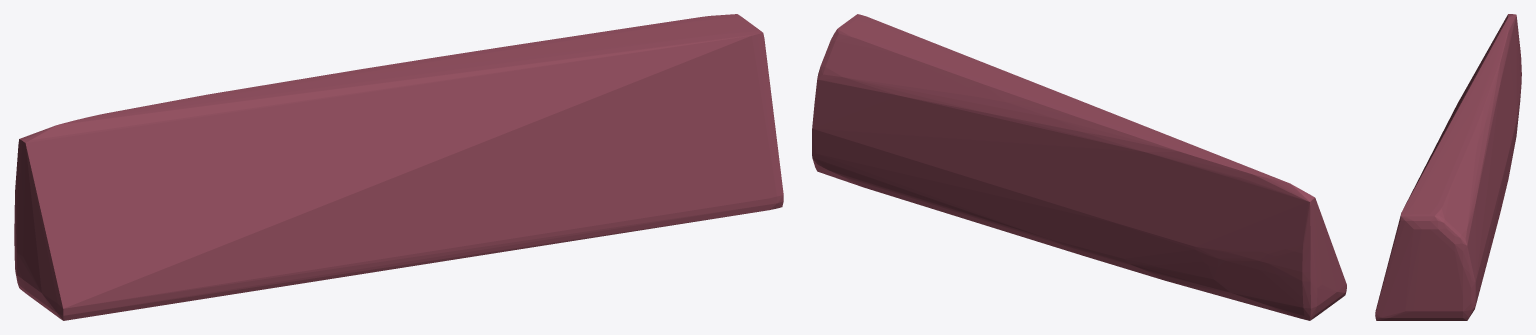
File: right-shin-0_part_13.obj
The picture shows the model from 3 angles, left to right: view 1: azimuth 30°, elevation 25°; view 2: azimuth 150°, elevation 25°; view 3: azimuth 270°, elevation 25°; orthographic projection. The views are drawn at different scales.
Size of the model in its own units: 0.1463 by 0.0338 by 0.0427.
